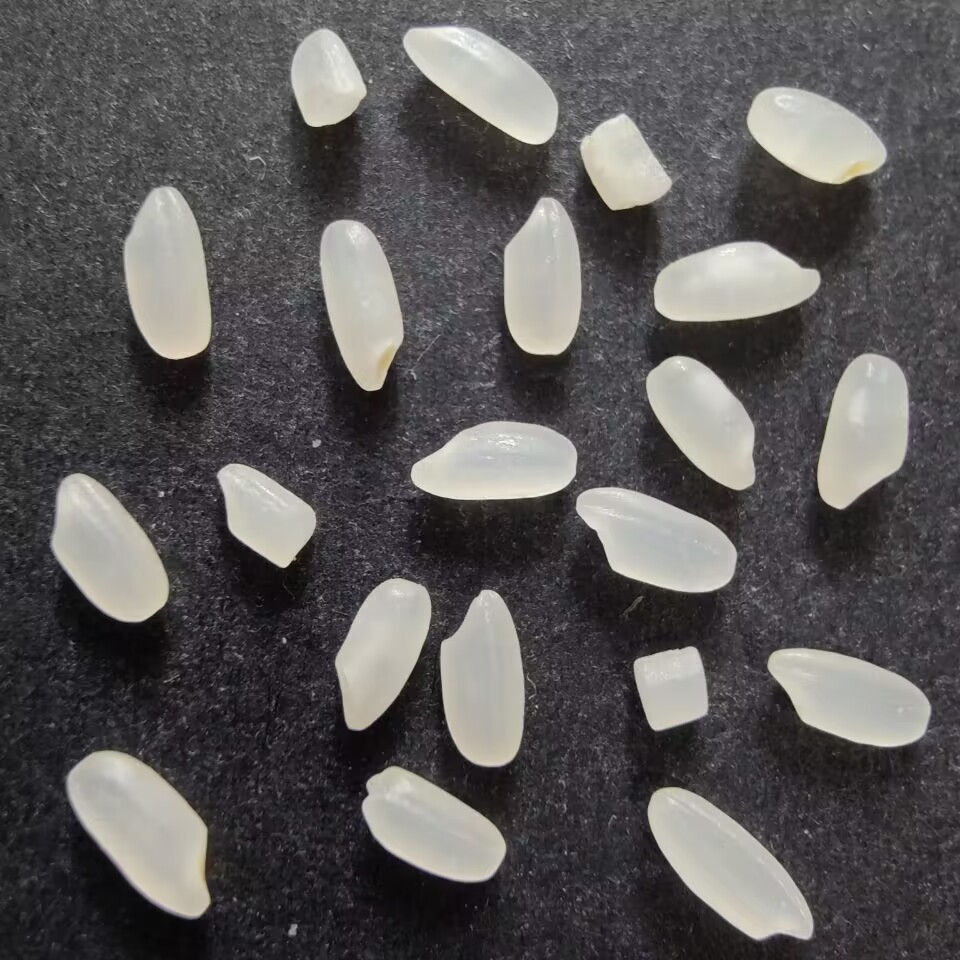broken: (213, 461, 320, 569), (572, 115, 672, 215), (286, 28, 368, 133), (626, 644, 713, 738)
rice: (646, 784, 818, 945), (61, 749, 216, 923), (44, 469, 175, 625), (399, 22, 561, 147), (572, 485, 740, 598), (359, 764, 509, 889), (762, 645, 934, 748), (118, 184, 214, 364), (437, 584, 528, 767), (642, 353, 762, 491), (331, 573, 433, 734), (318, 217, 407, 396), (818, 352, 914, 514), (650, 236, 821, 326), (746, 82, 889, 188), (406, 418, 580, 503), (498, 193, 585, 362)
